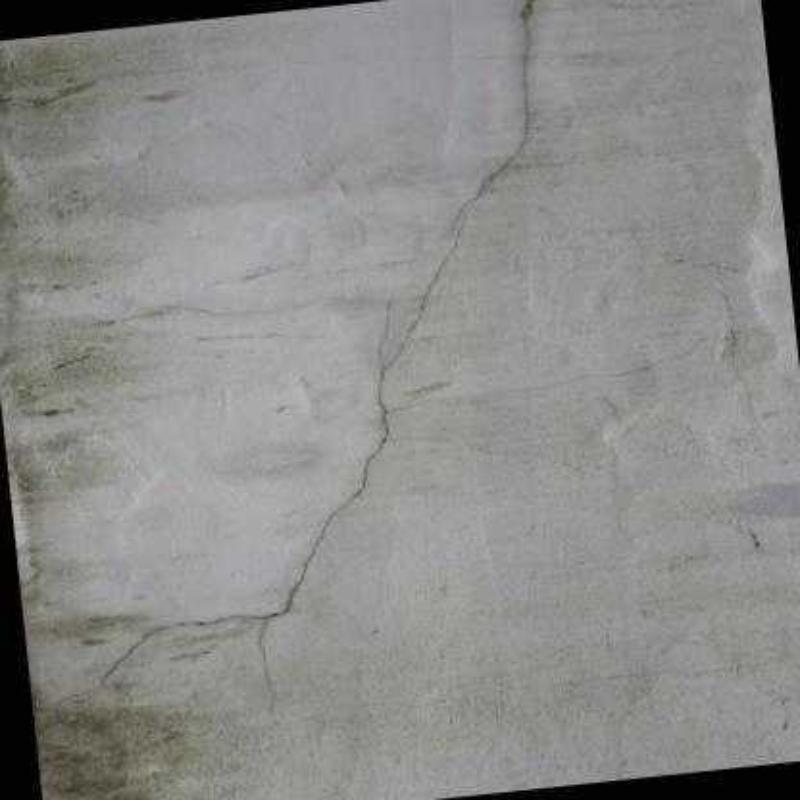pothole: (34, 1, 547, 719), (262, 621, 277, 721)
